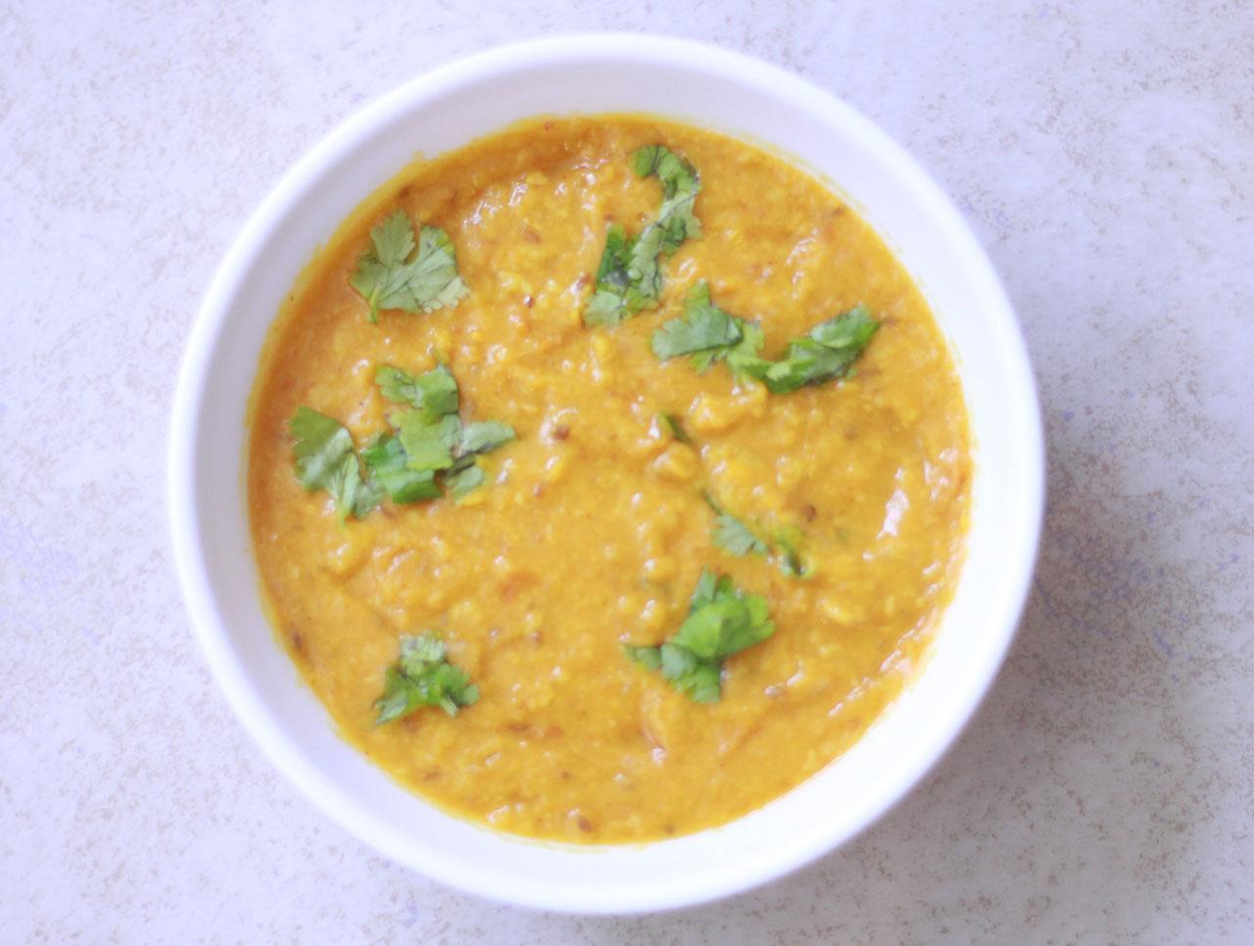dal: (249, 115, 975, 860)
